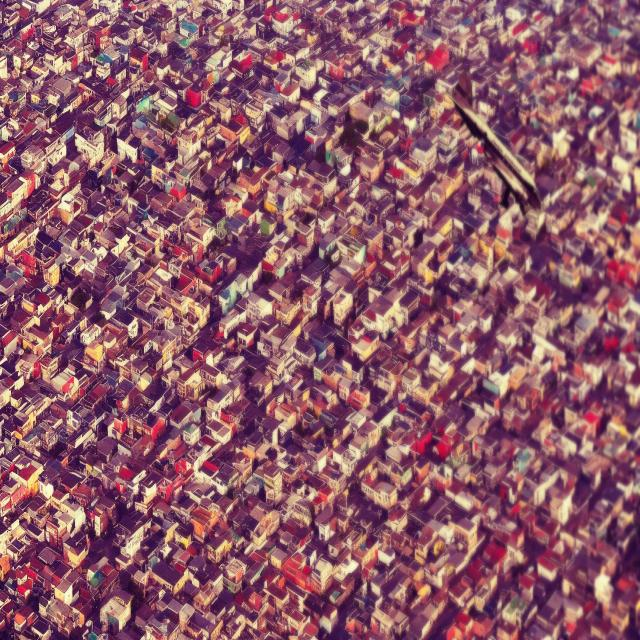airplane: (444, 86, 542, 212)
